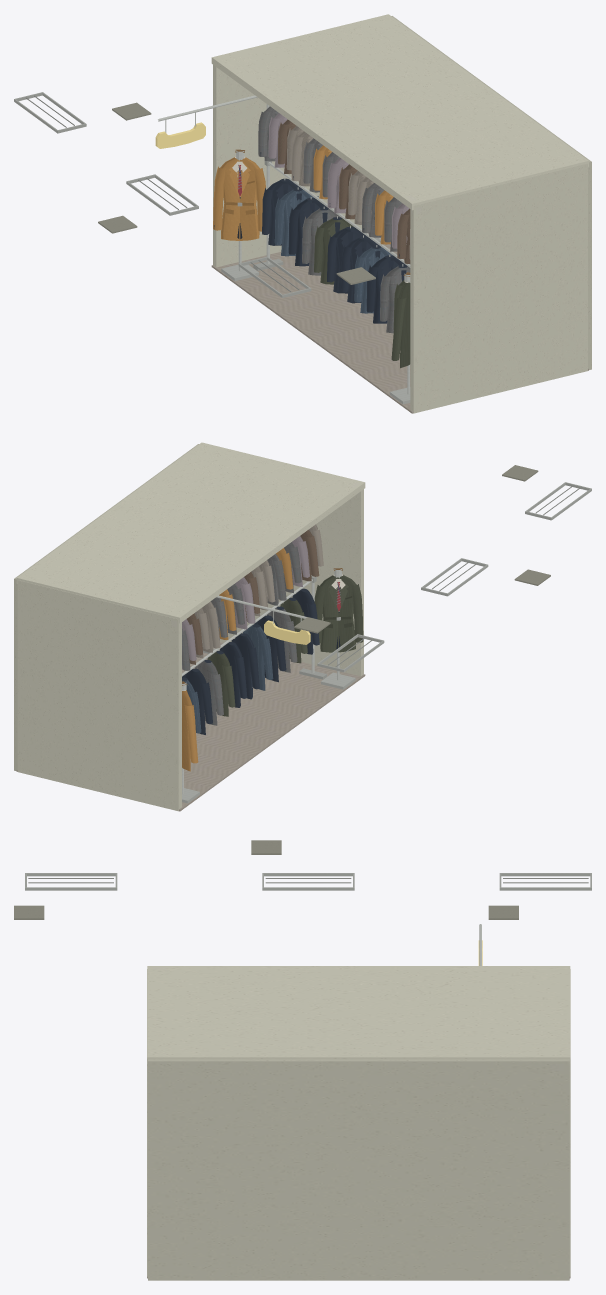
Rendered from tailored-front.glb.
3 renders of one model, top to bottom at view 1: azimuth 30°, elevation 25°; view 2: azimuth 150°, elevation 25°; view 3: azimuth 270°, elevation 25°, orthographic. The views are drawn at different scales.
Parts seen in each view (by area): view 1: TailoredFront; view 2: TailoredFront; view 3: TailoredFront.
Part boxes in pixels (bbox=[...]): TailoredFront: bbox=[14, 14, 591, 413]; TailoredFront: bbox=[14, 442, 591, 811]; TailoredFront: bbox=[14, 840, 591, 1280].
Size of the model in its own units: 6.38 by 2.97 by 7.02.
1 material, 1 textured.
